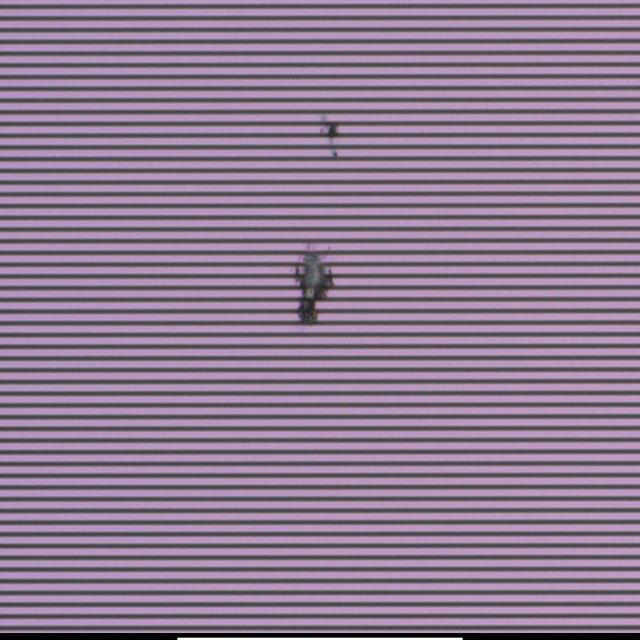03_intrusion: (288, 249, 336, 326), (317, 115, 346, 155)
